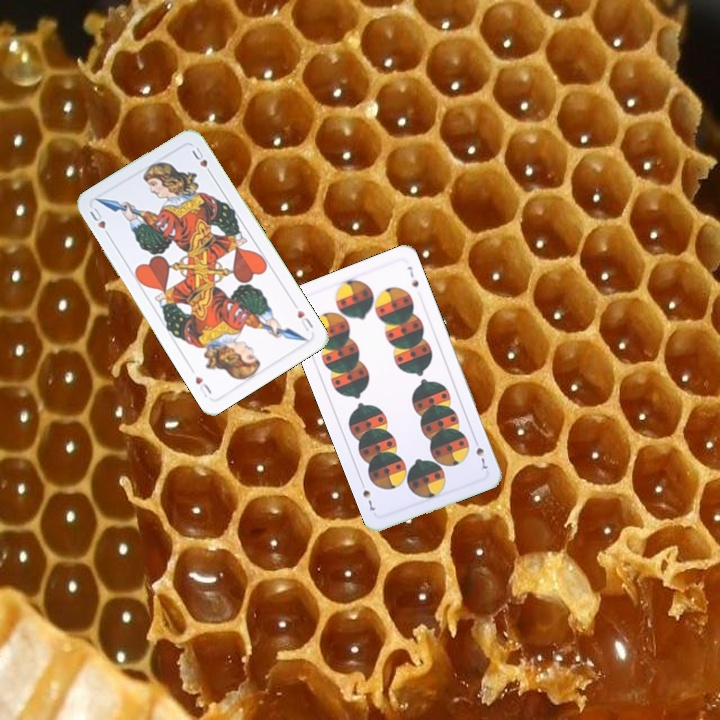HU: (85, 204, 113, 240), (293, 306, 316, 335)
S7: (470, 434, 491, 474)
